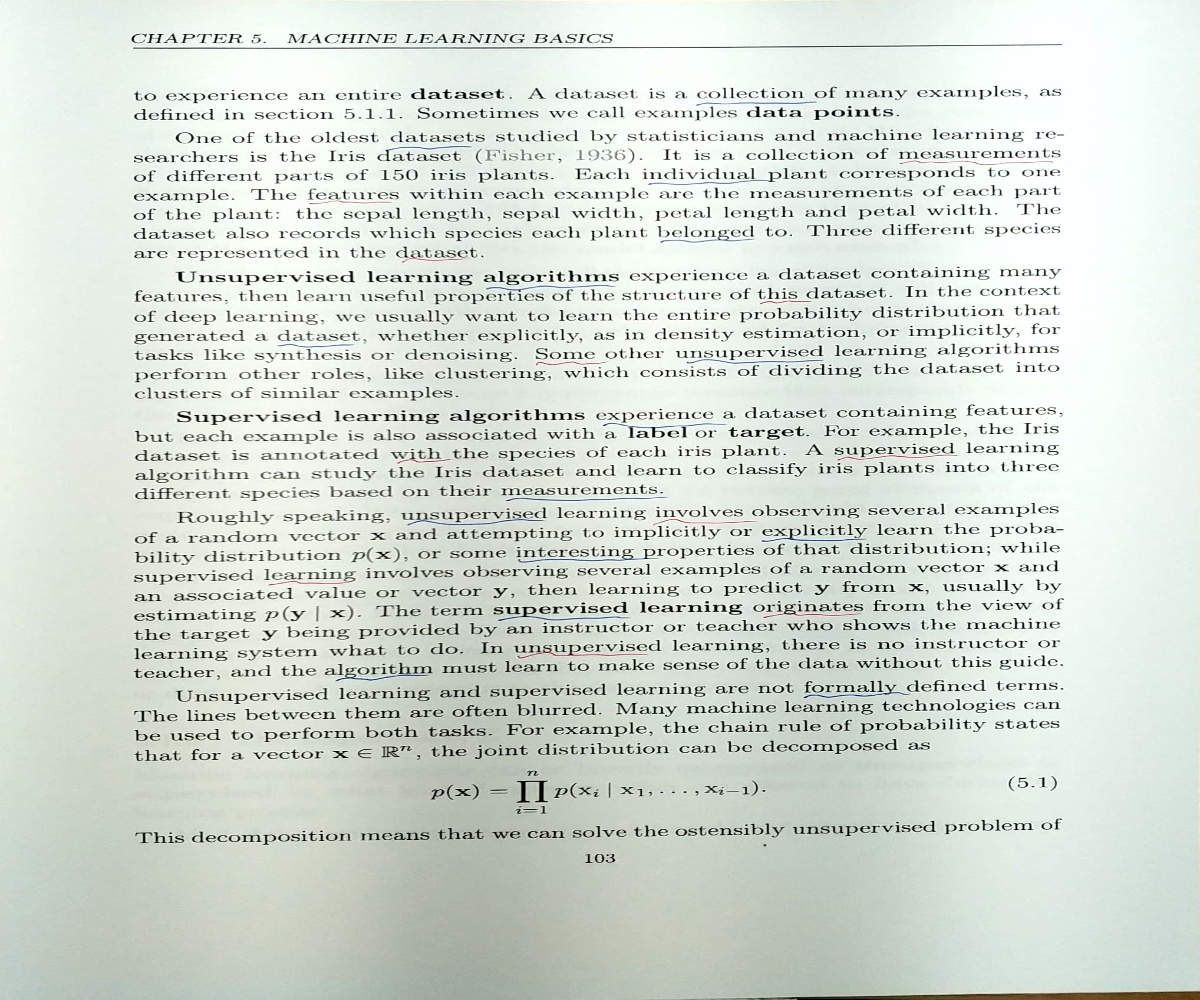underline: (598, 418, 725, 429), (898, 157, 1055, 165), (646, 178, 775, 187), (505, 495, 670, 502), (687, 357, 828, 365), (264, 578, 355, 590), (495, 615, 631, 623), (759, 611, 865, 621), (516, 651, 647, 659), (695, 98, 820, 106), (274, 339, 357, 351), (405, 519, 545, 526), (658, 235, 755, 245), (484, 284, 621, 291), (335, 673, 427, 683), (757, 536, 870, 544), (834, 454, 962, 461), (653, 517, 758, 525), (516, 557, 665, 562), (801, 692, 907, 699), (305, 199, 397, 207), (398, 255, 476, 264), (384, 143, 474, 150), (756, 297, 816, 306), (532, 360, 609, 367), (396, 457, 455, 464)
